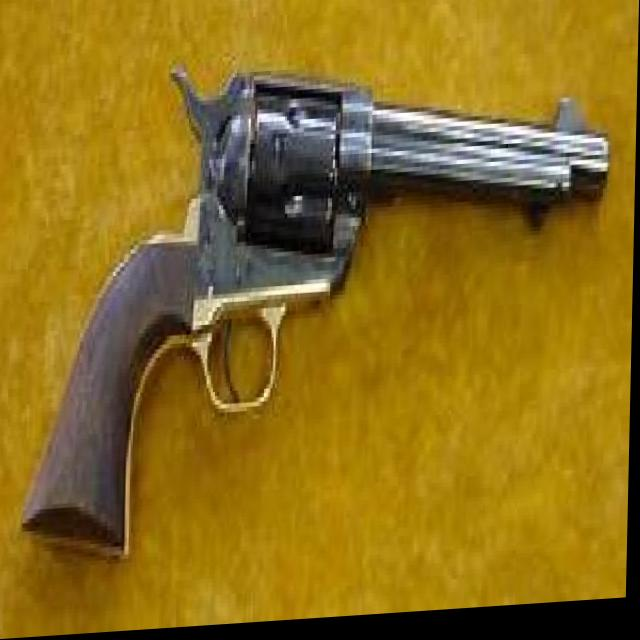handgun: (16, 31, 617, 554)
